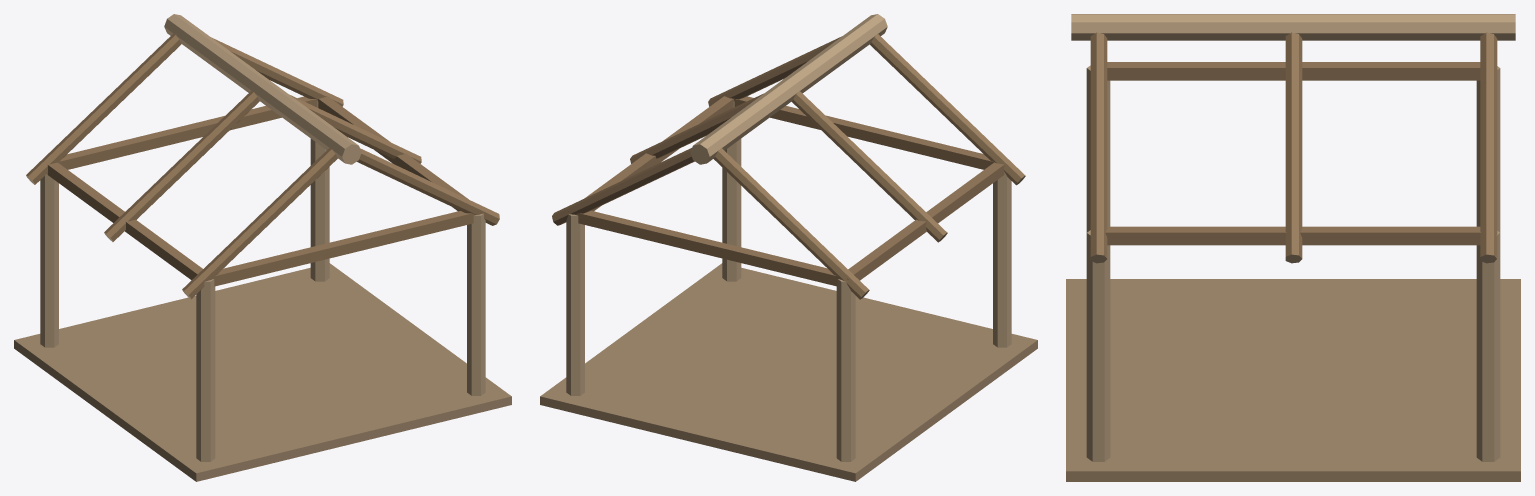
The model's file is building_trading_post_frame.glb.
The picture shows the model from 3 angles, left to right: view 1: azimuth 30°, elevation 25°; view 2: azimuth 150°, elevation 25°; view 3: azimuth 270°, elevation 25°; orthographic projection. The views are drawn at different scales.
Parts seen in each view (by area): view 1: building_trading_post_frame; view 2: building_trading_post_frame; view 3: building_trading_post_frame.
Boxes of the visible parts, box(x1,y1,x2,y2) form: building_trading_post_frame: box(14, 14, 511, 481); building_trading_post_frame: box(540, 14, 1037, 481); building_trading_post_frame: box(1066, 14, 1520, 481).
Bounding box in the file's own units: 3.85 × 3.47 × 3.85.
